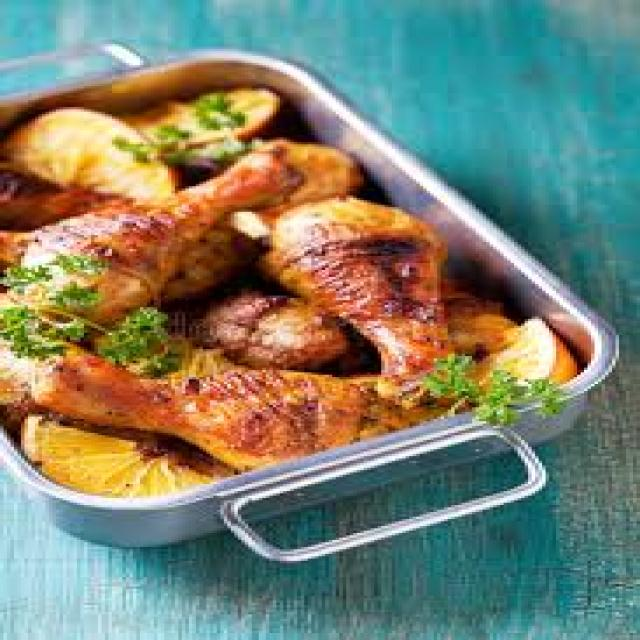Frango: (14, 86, 462, 468)
